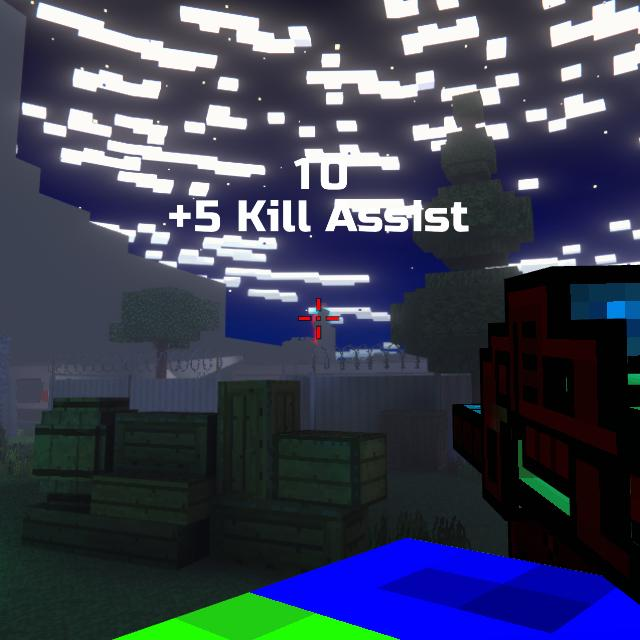Enemy: (315, 314, 322, 336)
